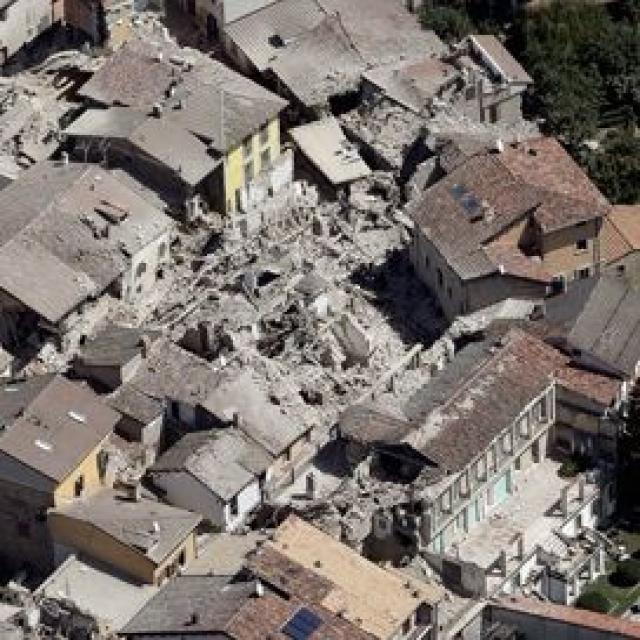collapsed_building: (298, 44, 558, 182), (188, 226, 384, 393)
